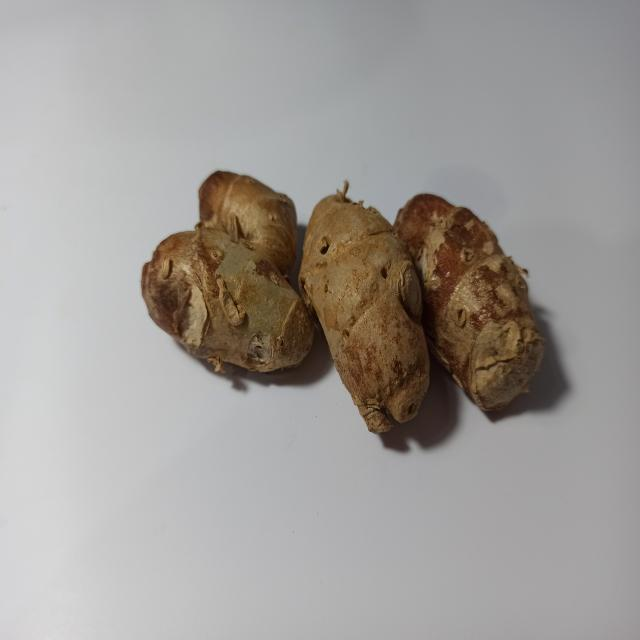ginger: (142, 164, 538, 424)
